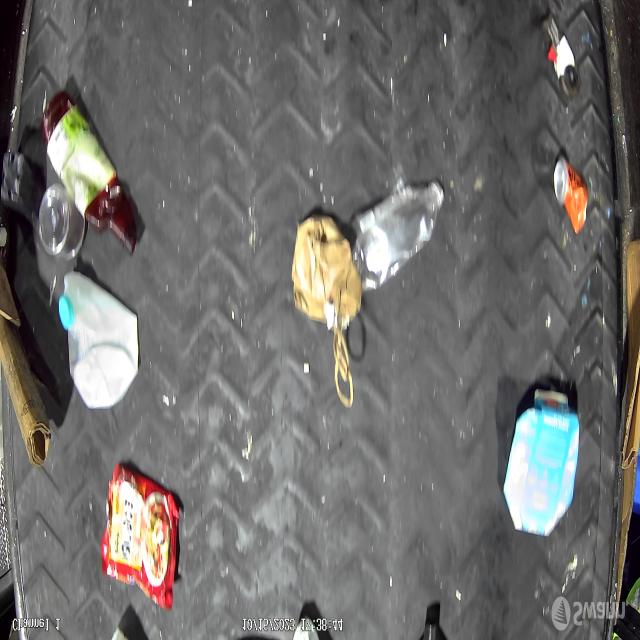can: (554, 155, 590, 230)
milk_jug: (60, 273, 142, 407)
plastic_bottle: (365, 176, 443, 288)
